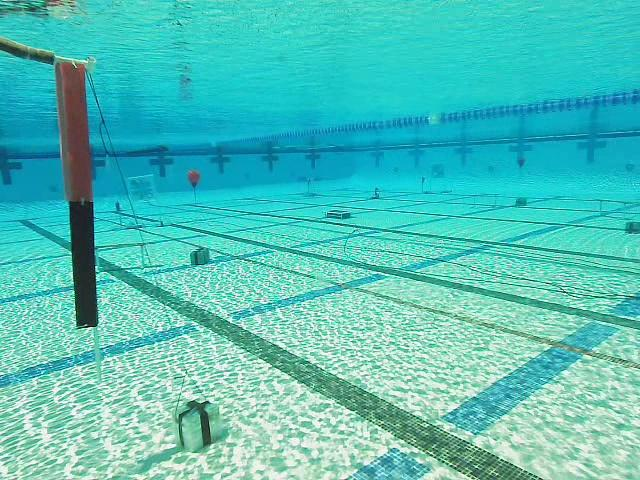buoy: (186, 171, 202, 192)
dropper: (325, 208, 351, 219)
gate_leg_r: (54, 54, 100, 331)
torpedo: (128, 176, 156, 203)
